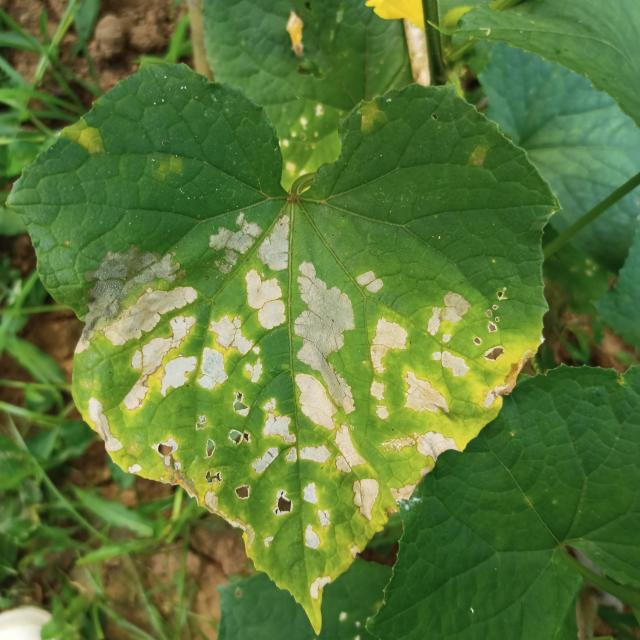disease_cucumber: (62, 206, 529, 585), (51, 113, 106, 159)
